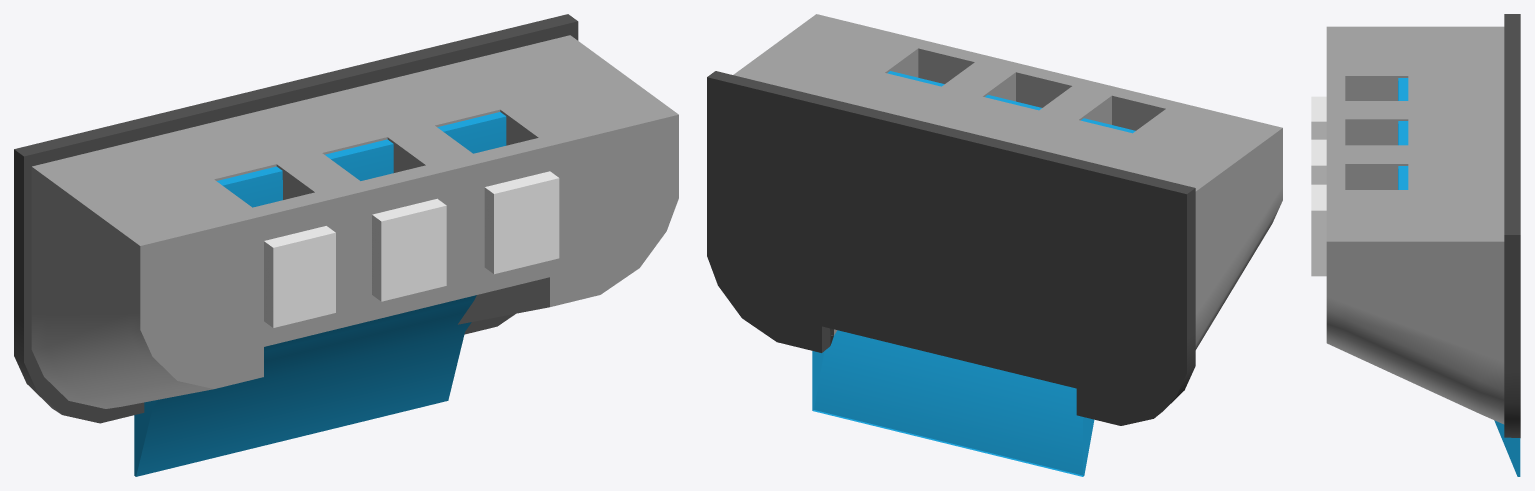
The model's file is hydroelectric_dam.obj.
3 views of the same model, side by side, from view 1: azimuth 30°, elevation 25°; view 2: azimuth 150°, elevation 25°; view 3: azimuth 270°, elevation 25° (orthographic). The views are drawn at different scales.
Parts seen in each view (by area): view 1: hydroelectric_dam; view 2: hydroelectric_dam; view 3: hydroelectric_dam.
Part boxes in pixels (x1,y1,x2,y2): hydroelectric_dam: (14,14,678,476); hydroelectric_dam: (707,14,1282,476); hydroelectric_dam: (1311,14,1520,476).
Size of the model in its own units: 7.88 by 4.83 by 3.15.
